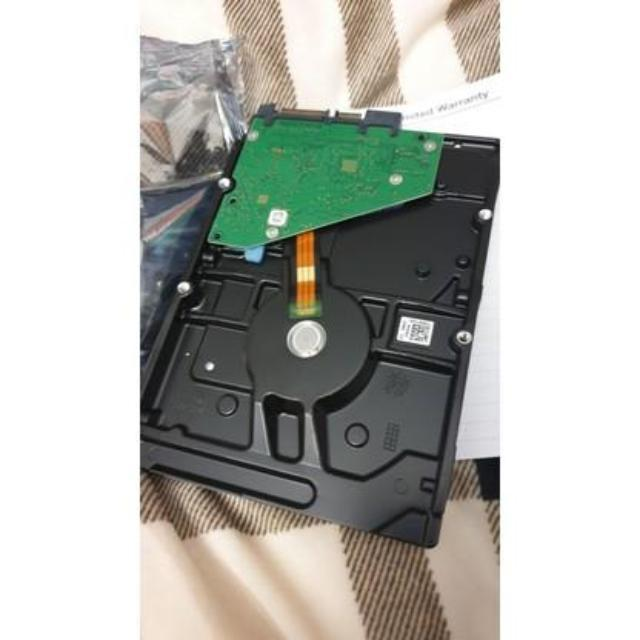DISK: (142, 114, 498, 546)
